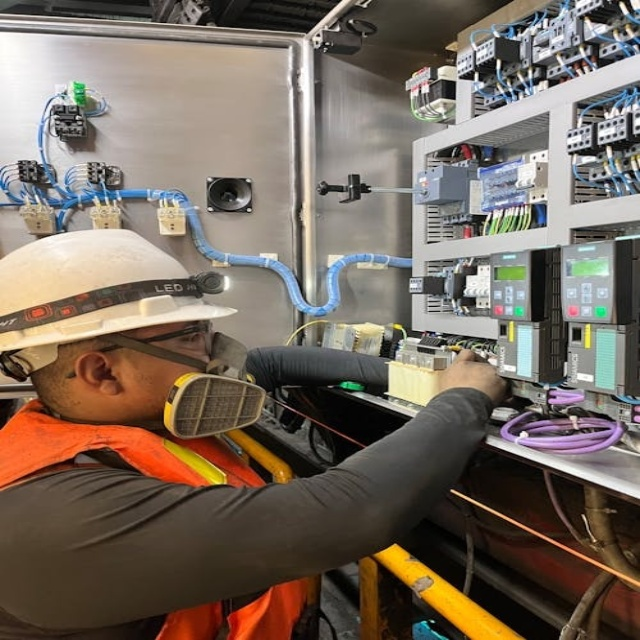Gafas: (65, 316, 221, 379)
Mascara: (152, 323, 271, 444)
Sin_guantes: (439, 348, 512, 406)
